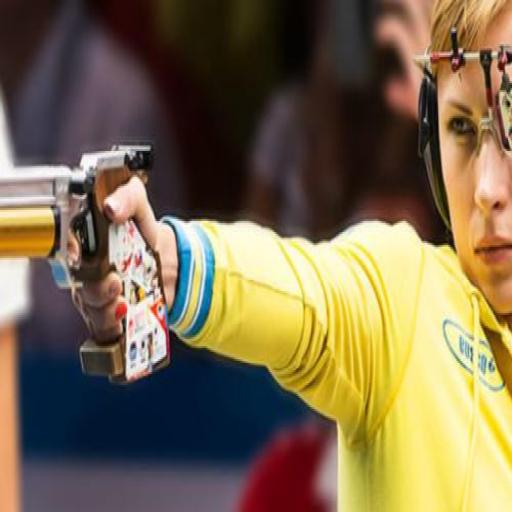shooting: (92, 0, 511, 510)
